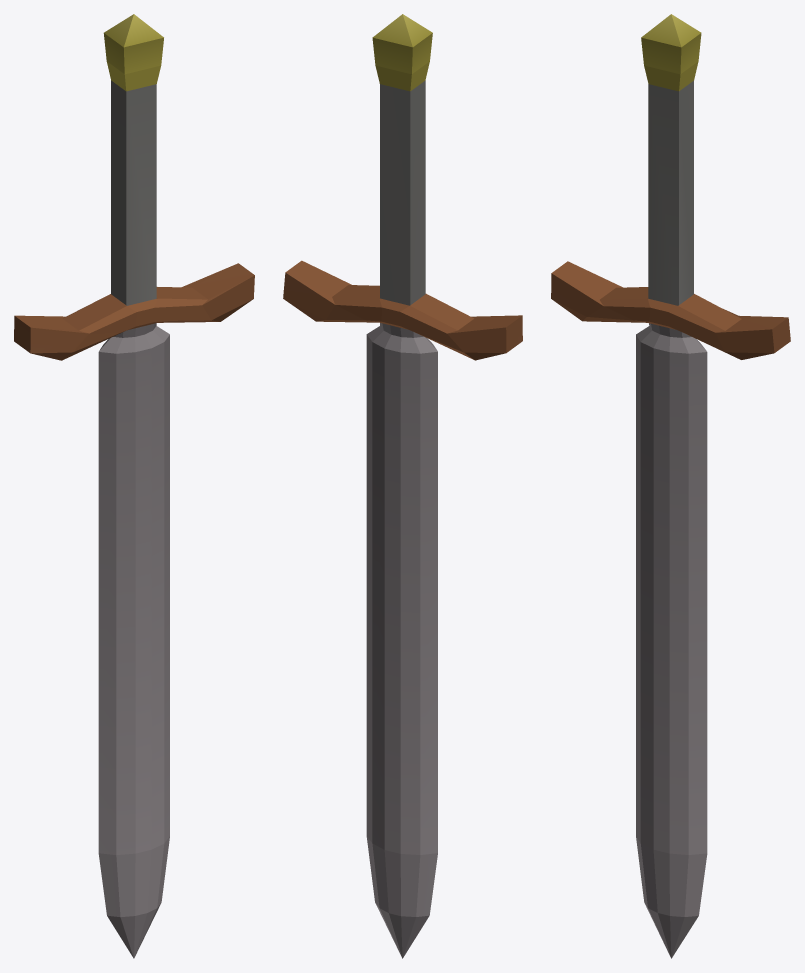
Rendered from Espada.fbx.
The picture shows the model from 3 angles, left to right: view 1: azimuth 30°, elevation 25°; view 2: azimuth 150°, elevation 25°; view 3: azimuth 330°, elevation 25°; orthographic projection.
Parts seen in each view (by area): view 1: Espada; view 2: Espada; view 3: Espada.
Boxes of the visible parts, x1,y1,x2,y2 form: Espada: (14,14,254,958); Espada: (283,14,522,958); Espada: (551,14,790,958).
Size of the model in its own units: 441 by 1782 by 80.71.
